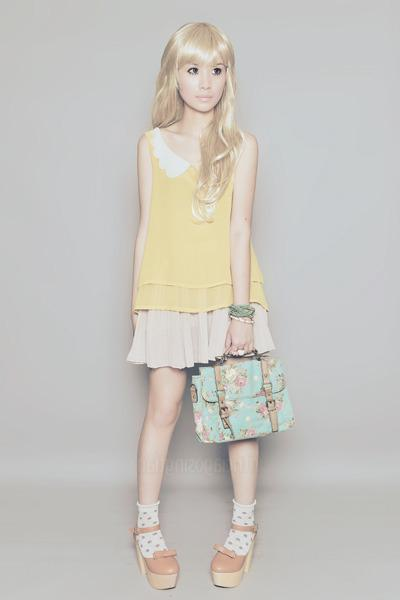short sleeve shirt: (127, 125, 270, 318)
skirt: (119, 297, 277, 369)
